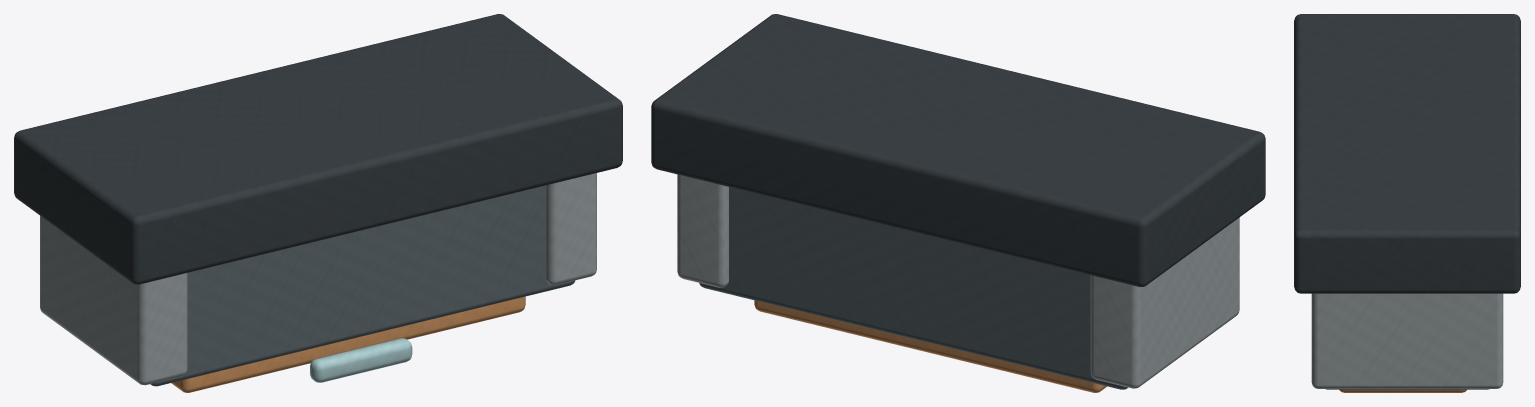
The model's file is CeilingEmergencyLight.fbx.
3 views of the same model, side by side, from view 1: azimuth 30°, elevation 25°; view 2: azimuth 150°, elevation 25°; view 3: azimuth 270°, elevation 25° (orthographic). The views are drawn at different scales.
Parts seen in each view (by area): view 1: CeilingEmergencyLight_Mesh; view 2: CeilingEmergencyLight_Mesh; view 3: CeilingEmergencyLight_Mesh.
Boxes of the visible parts, x1,y1,x2,y2 form: CeilingEmergencyLight_Mesh: [14, 14, 622, 392]; CeilingEmergencyLight_Mesh: [651, 14, 1265, 392]; CeilingEmergencyLight_Mesh: [1294, 14, 1520, 392].
Bounding box in the file's own units: 60 × 26.25 × 26.
5 materials, 5 textured.
